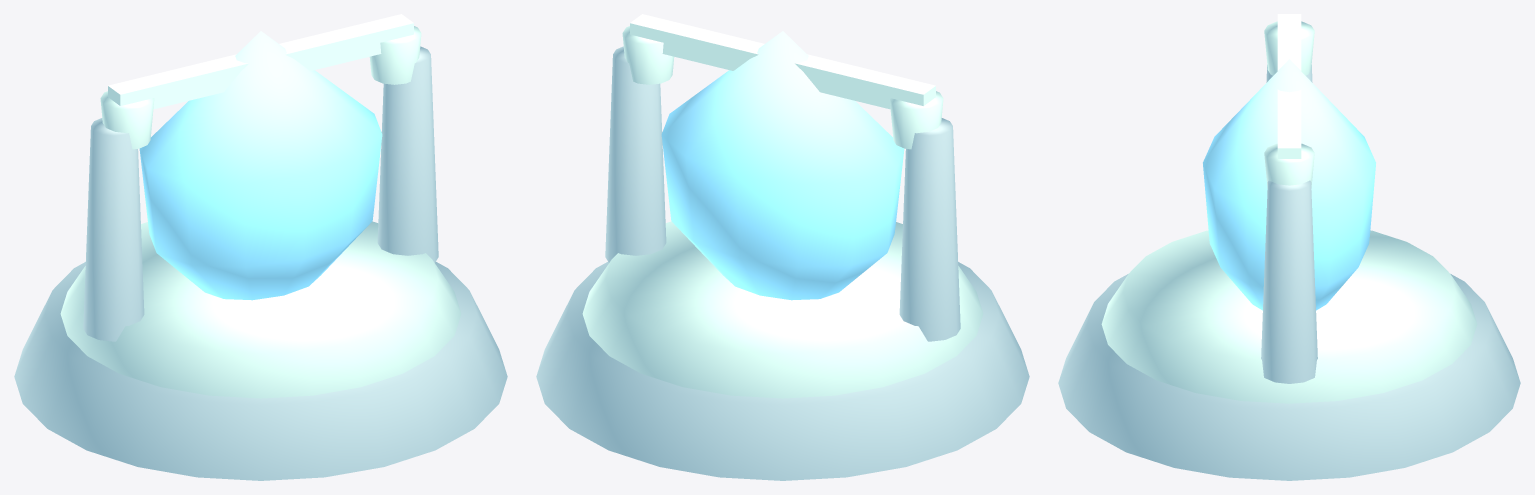
File: aquamarine-tuning-stone.glb
3 renders of one model, left to right at view 1: azimuth 30°, elevation 25°; view 2: azimuth 150°, elevation 25°; view 3: azimuth 270°, elevation 25°, orthographic. The views are drawn at different scales.
Visible parts, largest first — view 1: AquamarineTuningStone; view 2: AquamarineTuningStone; view 3: AquamarineTuningStone.
Boxes of the visible parts, x1,y1,x2,y2 form: AquamarineTuningStone: (14,14,507,480); AquamarineTuningStone: (536,14,1029,480); AquamarineTuningStone: (1058,14,1520,480).
Bounding box in the file's own units: 1.28 × 0.99 × 1.28.
